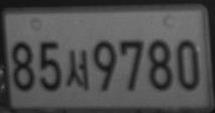0: (175, 39, 200, 90)
5: (39, 41, 61, 92)
7: (119, 40, 144, 91)
8: (148, 39, 172, 90), (11, 41, 35, 91)
9: (93, 40, 116, 91)
서: (65, 49, 90, 91)
